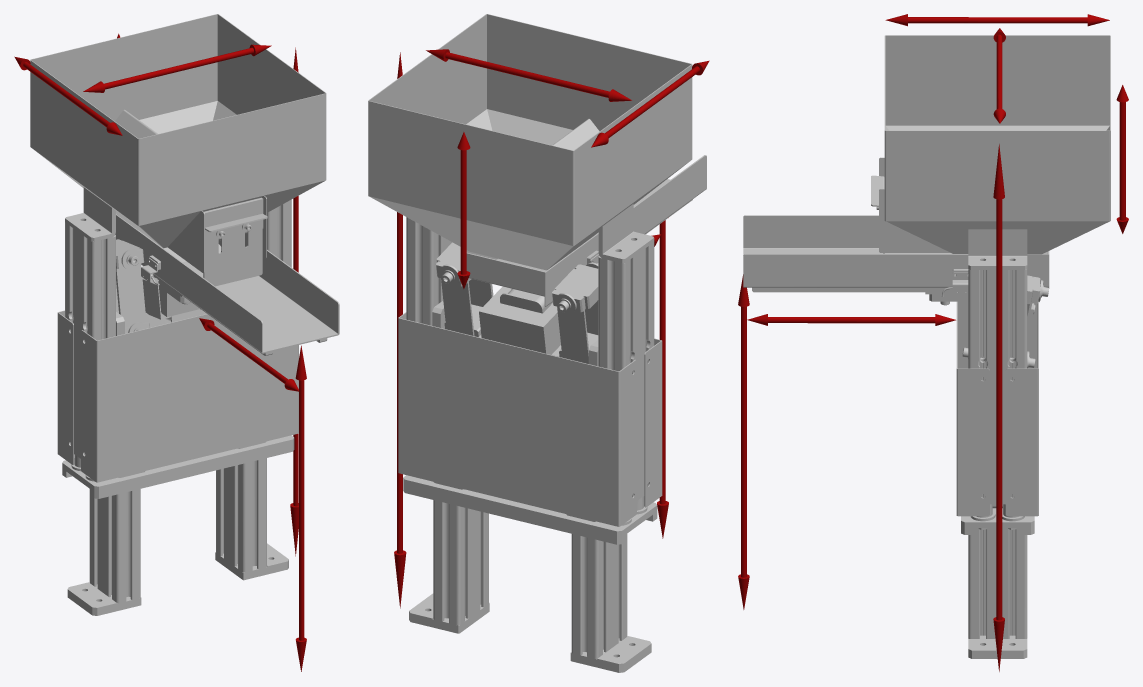
The model's file is hopper.glb.
3 views of the same model, side by side, from view 1: azimuth 30°, elevation 25°; view 2: azimuth 150°, elevation 25°; view 3: azimuth 270°, elevation 25° (orthographic). The views are drawn at different scales.
Parts seen in each view (by area): view 1: Mesh_63, Mesh_93, Mesh_0, Mesh_76, Mesh_98, Mesh_99, Mesh_77, Mesh_68, Mesh_69, Cone.001, Mesh_65, Mesh_24 (+11 smaller); view 2: Mesh_63, Mesh_69, Mesh_76, Mesh_98, Mesh_99, Mesh_0, Mesh_77, Mesh_90, Mesh_93, Mesh_30, Mesh_65, Cone.006 (+12 smaller); view 3: Mesh_63, Mesh_0, Mesh_90, Mesh_99, Mesh_93, Mesh_69, Cone.006, Mesh_66, Cone.001, Cone.005, Cone.003, Mesh_101 (+4 smaller).
Boxes of the visible parts, left/top/right/bottom form: Mesh_63: left=30, top=14, right=326, bottom=273; Mesh_93: left=81, top=314, right=298, bottom=482; Mesh_0: left=115, top=214, right=339, bottom=353; Mesh_76: left=65, top=222, right=115, bottom=458; Mesh_98: left=89, top=489, right=140, bottom=603; Mesh_99: left=216, top=458, right=266, bottom=572; Mesh_77: left=62, top=435, right=294, bottom=498; Mesh_68: left=203, top=213, right=267, bottom=286; Mesh_69: left=57, top=310, right=73, bottom=464; Cone.001: left=295, top=345, right=306, bottom=671; Mesh_65: left=65, top=187, right=115, bottom=241; Mesh_24: left=116, top=248, right=146, bottom=327; Mesh_63: left=368, top=14, right=692, bottom=270; Mesh_69: left=398, top=312, right=636, bottom=526; Mesh_76: left=598, top=242, right=654, bottom=500; Mesh_98: left=571, top=534, right=627, bottom=658; Mesh_99: left=433, top=500, right=488, bottom=625; Mesh_0: left=460, top=155, right=706, bottom=306; Mesh_77: left=403, top=475, right=657, bottom=544; Mesh_90: left=406, top=217, right=451, bottom=325; Mesh_93: left=644, top=338, right=662, bottom=507; Mesh_30: left=479, top=306, right=551, bottom=354; Mesh_65: left=598, top=204, right=654, bottom=263; Cone.006: left=394, top=52, right=406, bottom=608; Mesh_63: left=879, top=35, right=1110, bottom=254; Mesh_0: left=743, top=215, right=1049, bottom=287; Mesh_90: left=968, top=269, right=1027, bottom=504; Mesh_99: left=968, top=528, right=1027, bottom=638; Mesh_93: left=956, top=301, right=989, bottom=516; Mesh_69: left=1005, top=302, right=1038, bottom=516; Cone.006: left=993, top=144, right=1004, bottom=671; Mesh_66: left=968, top=229, right=1027, bottom=269; Cone.001: left=738, top=274, right=749, bottom=609; Cone.005: left=885, top=14, right=1109, bottom=26; Cone.003: left=747, top=314, right=955, bottom=325; Mesh_101: left=968, top=635, right=1027, bottom=658.
Size of the model in its own units: 240 by 504 by 329.
